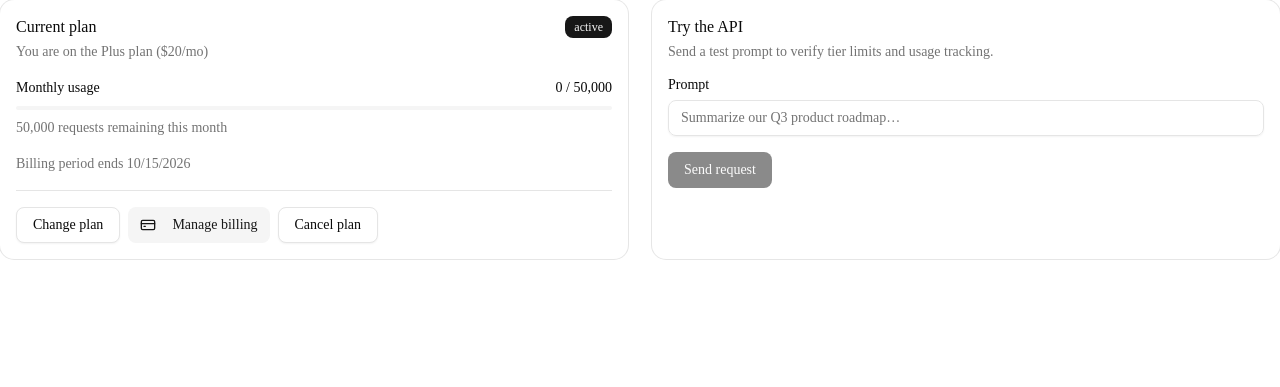
Test: DashboardClient › lets a Plus subscriber cancel at period end and then drop to Free
The image size is (1280, 387).
Click the button "Cancel plan" at (328, 225), box [278,207,378,243]
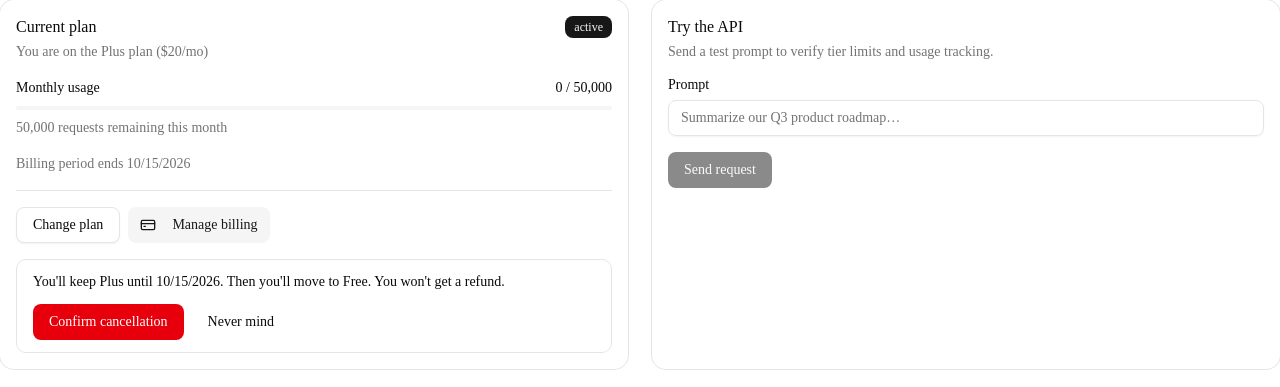
Result: the element with test id "cancel-plan-confirm" shows "keep Plus until" at [16,259,612,353]
Result: the element with test id "cancel-plan-confirm" shows "Free" at [220,274,505,289]
Click the button "Confirm cancellation" at (108, 322), box [33,304,184,340]
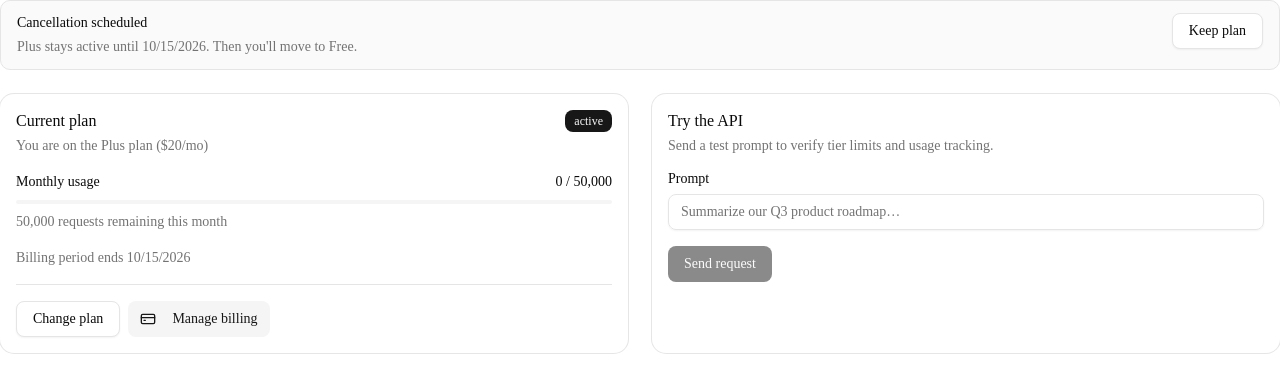
Result: the message with test id "cancellation-banner" shows "move to Free" at [206,39,357,54]
Result: the button "Keep plan" is shown at [1172,13,1263,49]
